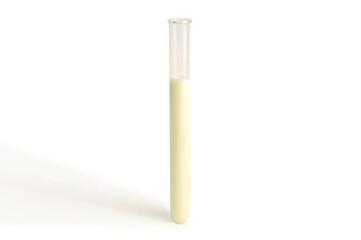Test tube: (161, 12, 196, 223)
